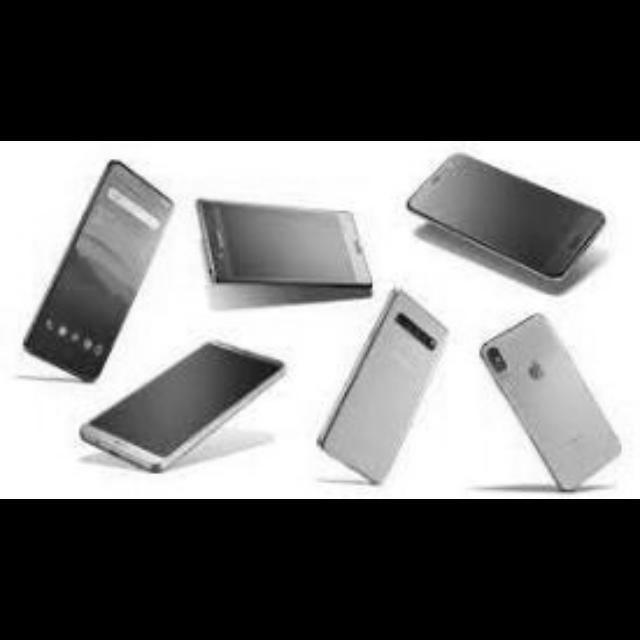fake: (17, 158, 160, 378), (477, 326, 640, 498), (128, 321, 293, 478), (315, 306, 453, 493), (410, 154, 606, 284), (197, 200, 374, 298), (60, 400, 122, 464)
